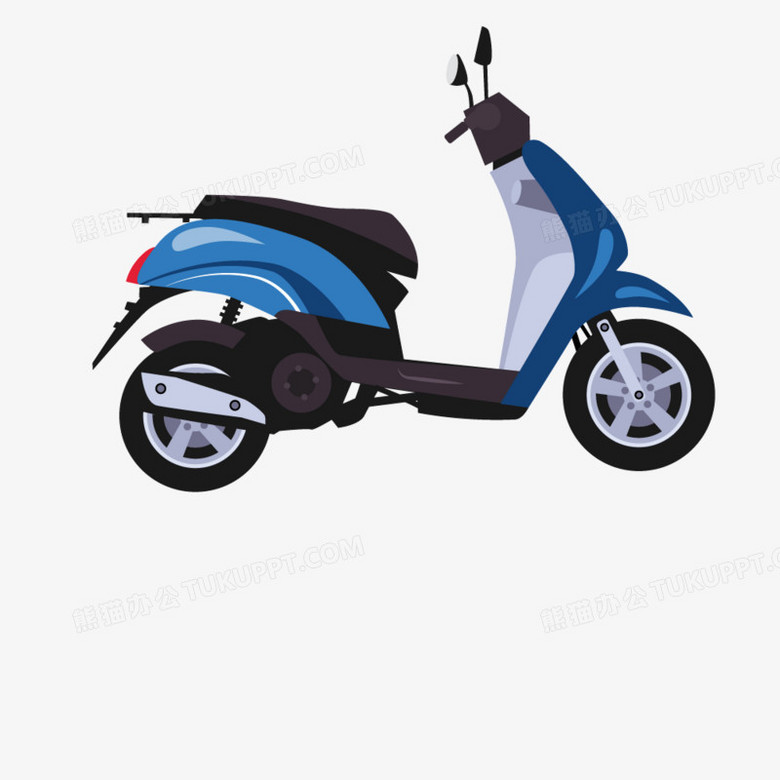MNV: (109, 57, 714, 488)
